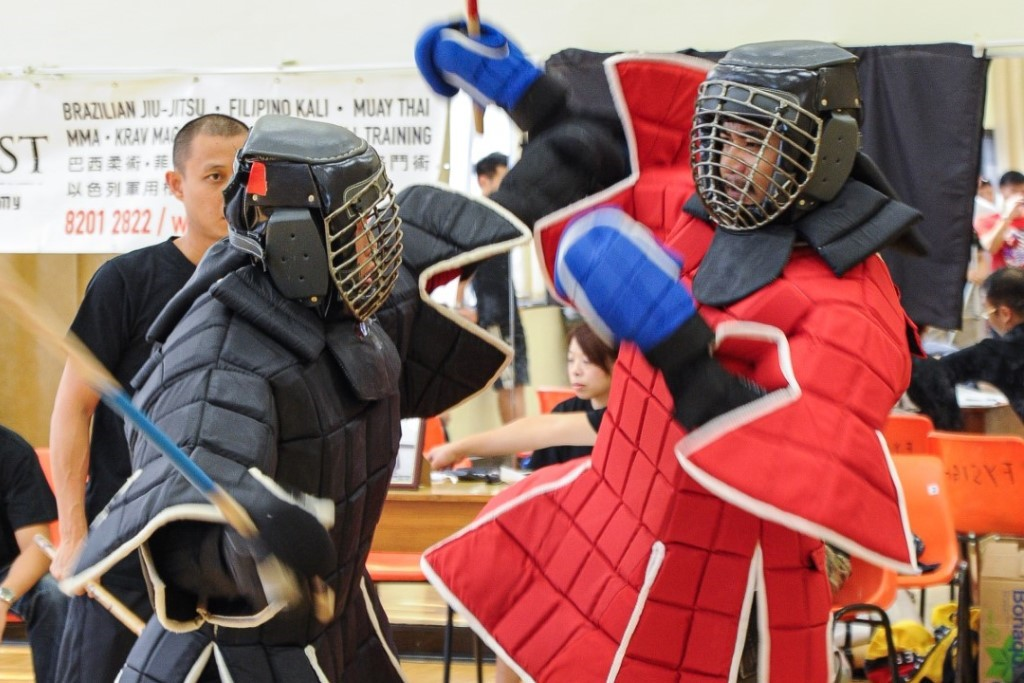baston_e: (11, 276, 253, 544), (462, 0, 491, 123)
baston_v: (464, 103, 495, 140)
